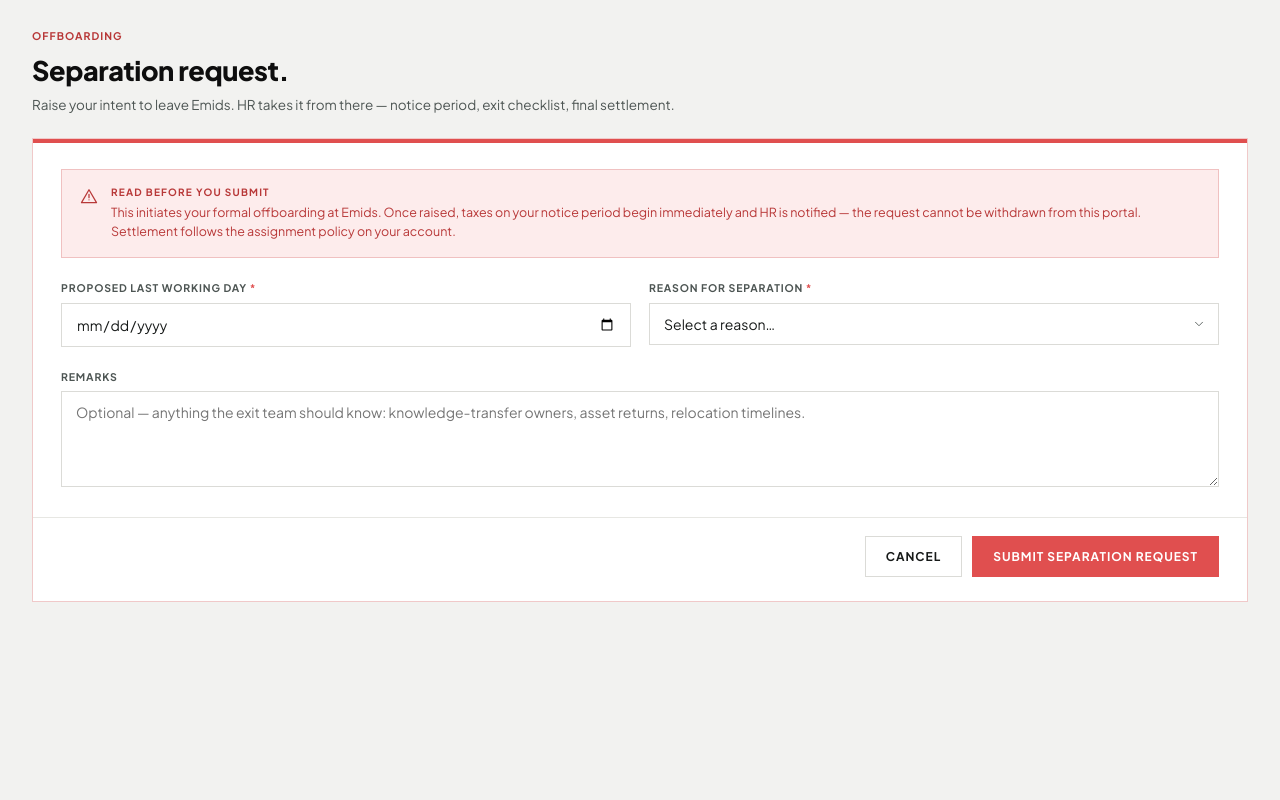
Test case: pages/SeparationRequest › rejects a last working day in the past
The image size is (1280, 800).
Type "2001-01-01" into the date field labelled "Proposed Last Working Day *" at (346, 324), box top-left (61, 302), bottom-right (631, 346)
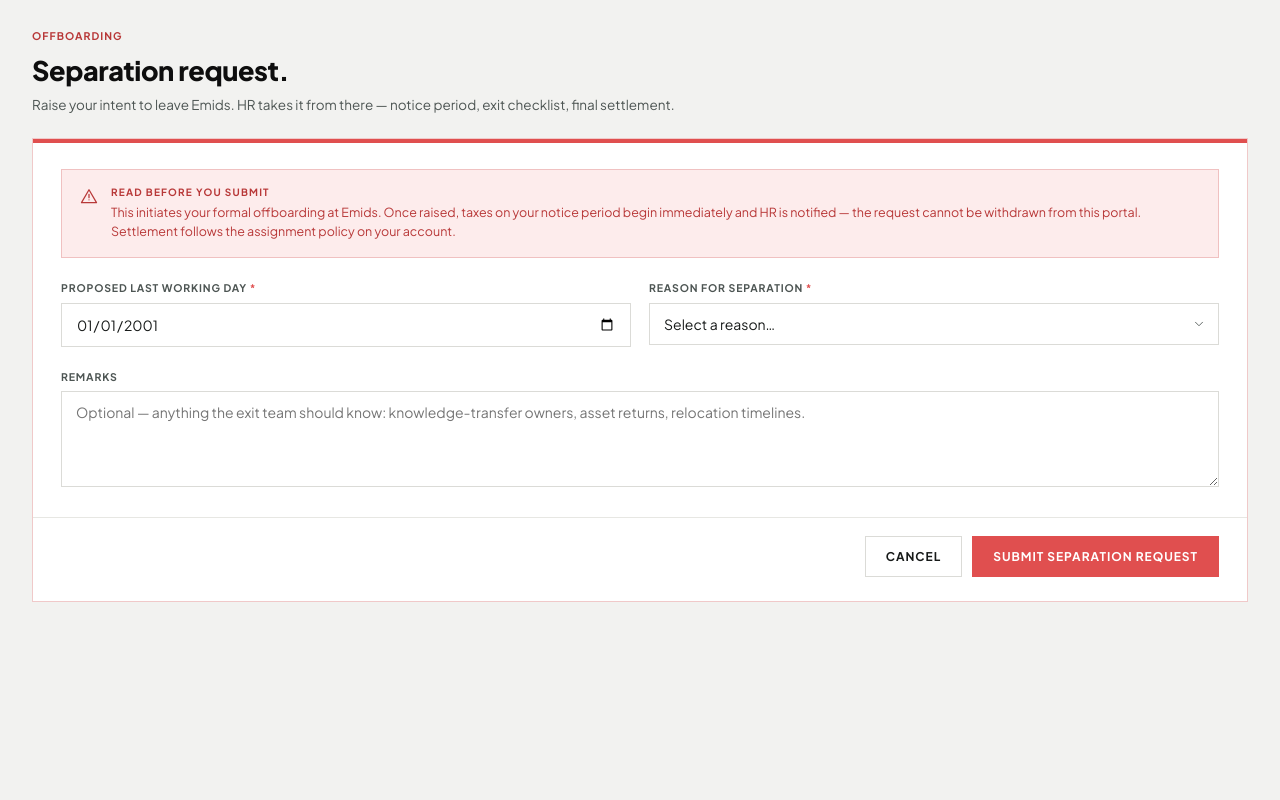
Select "Higher Studies" in the dropdown labelled "Reason for Separation *" at (934, 324), box top-left (649, 302), bottom-right (1219, 344)
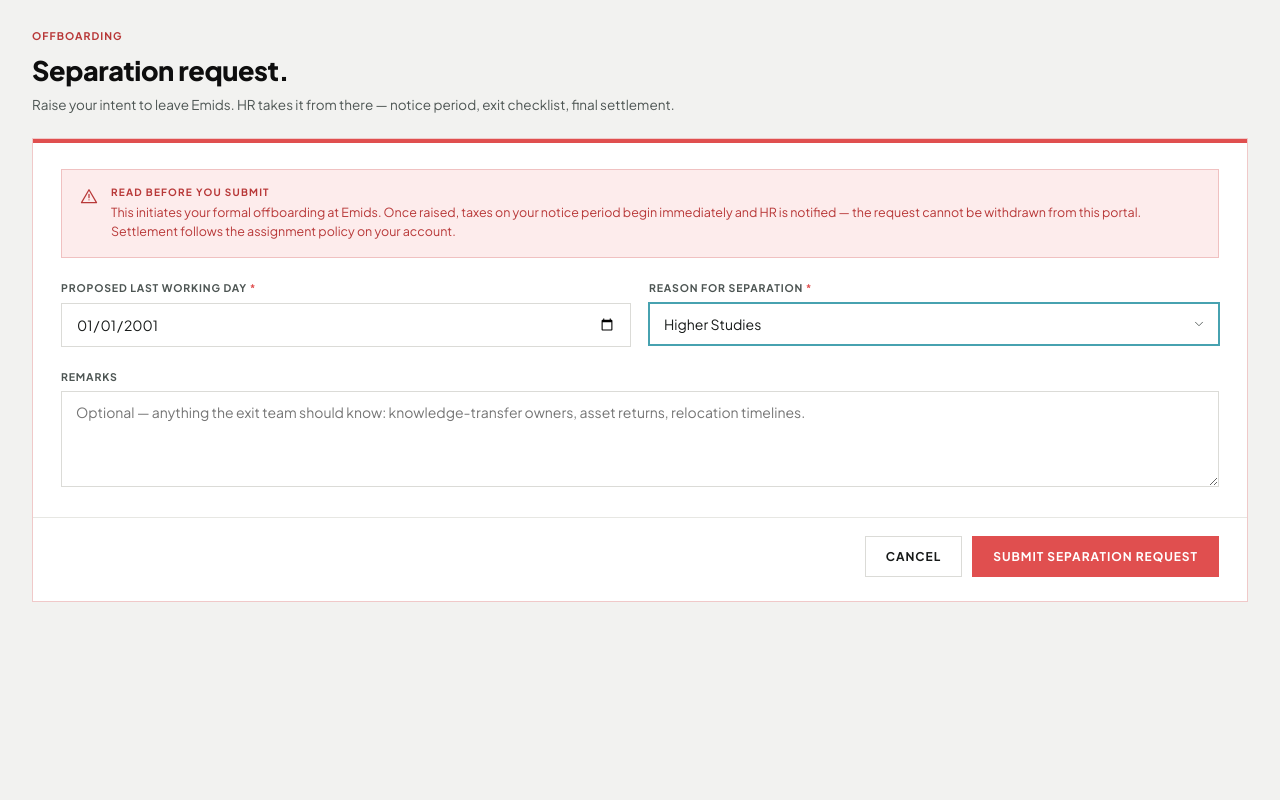
Click the button "Submit Separation Request" at (1096, 557), box top-left (972, 536), bottom-right (1219, 577)
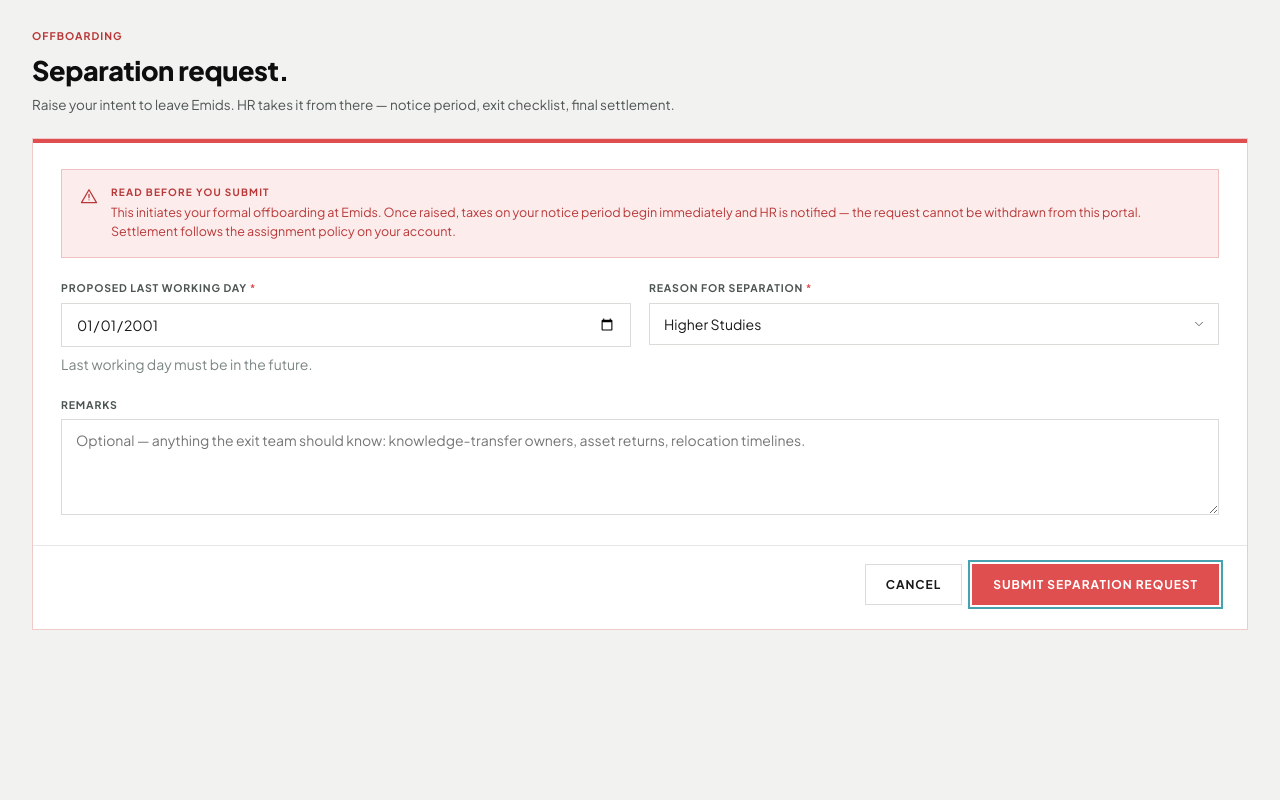
Now the text "Last working day must be in the future." is shown, box top-left (61, 354), bottom-right (312, 372)
